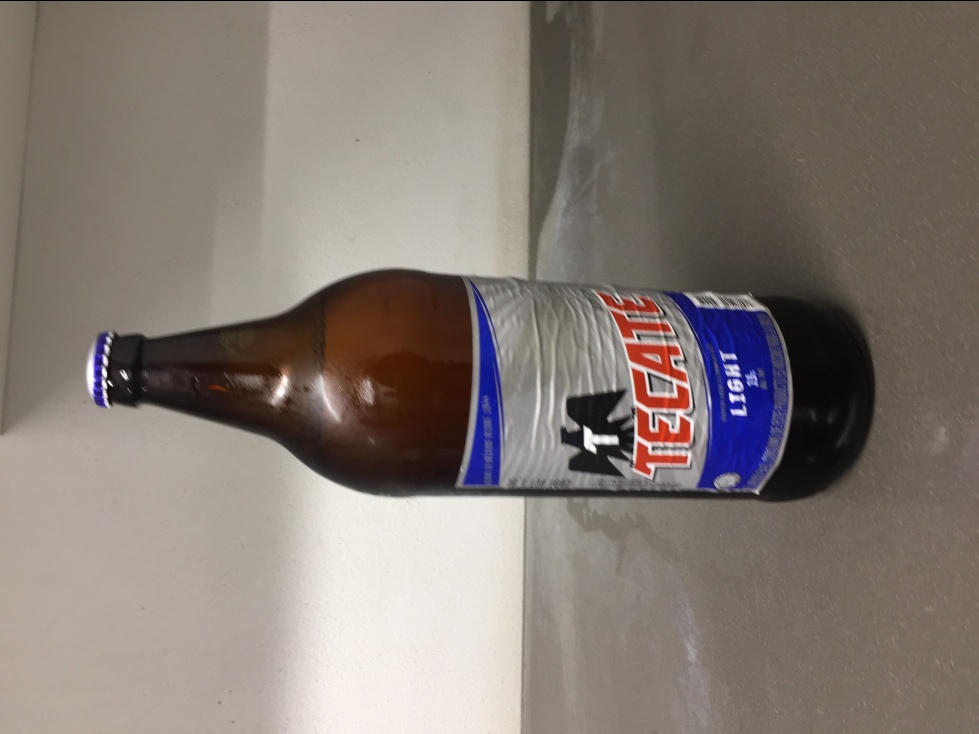tecateC: (87, 267, 875, 502)
